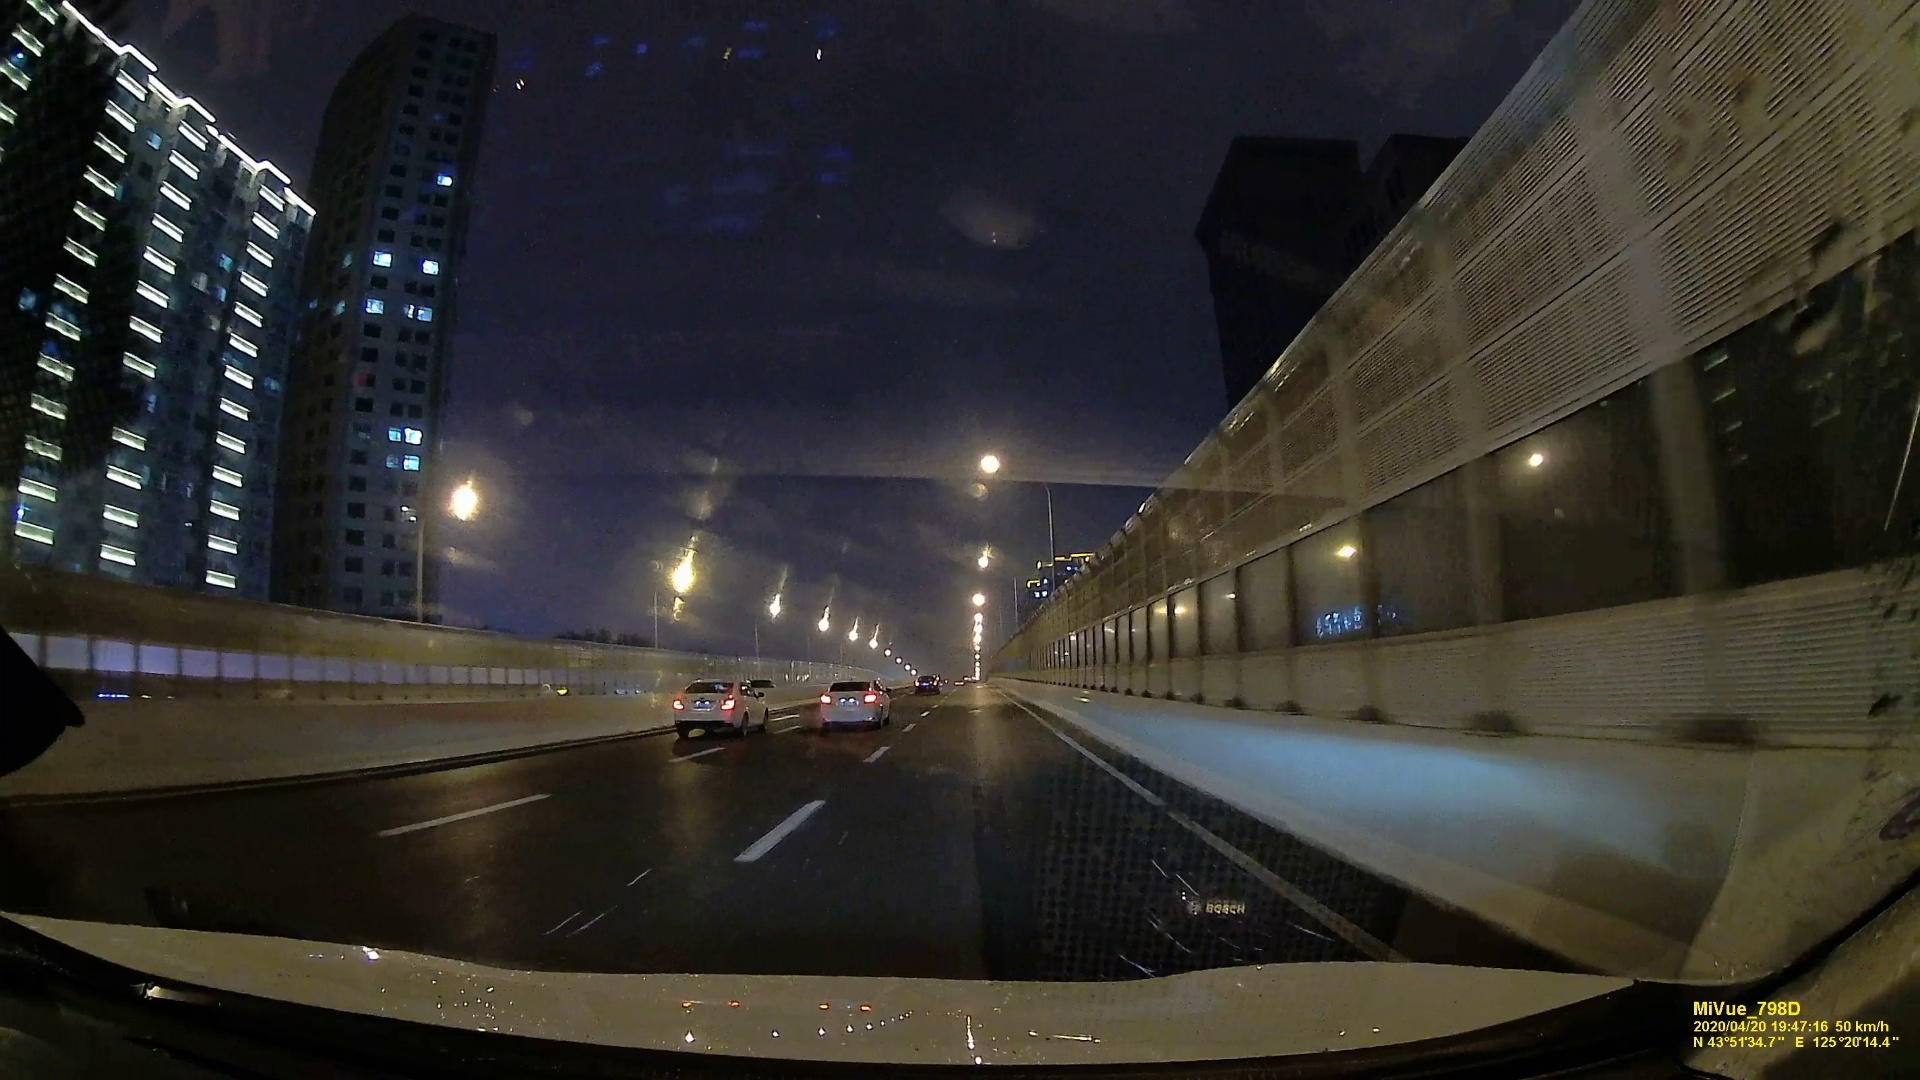vehicle: (673, 676, 769, 740), (816, 676, 889, 731), (911, 674, 938, 690)
